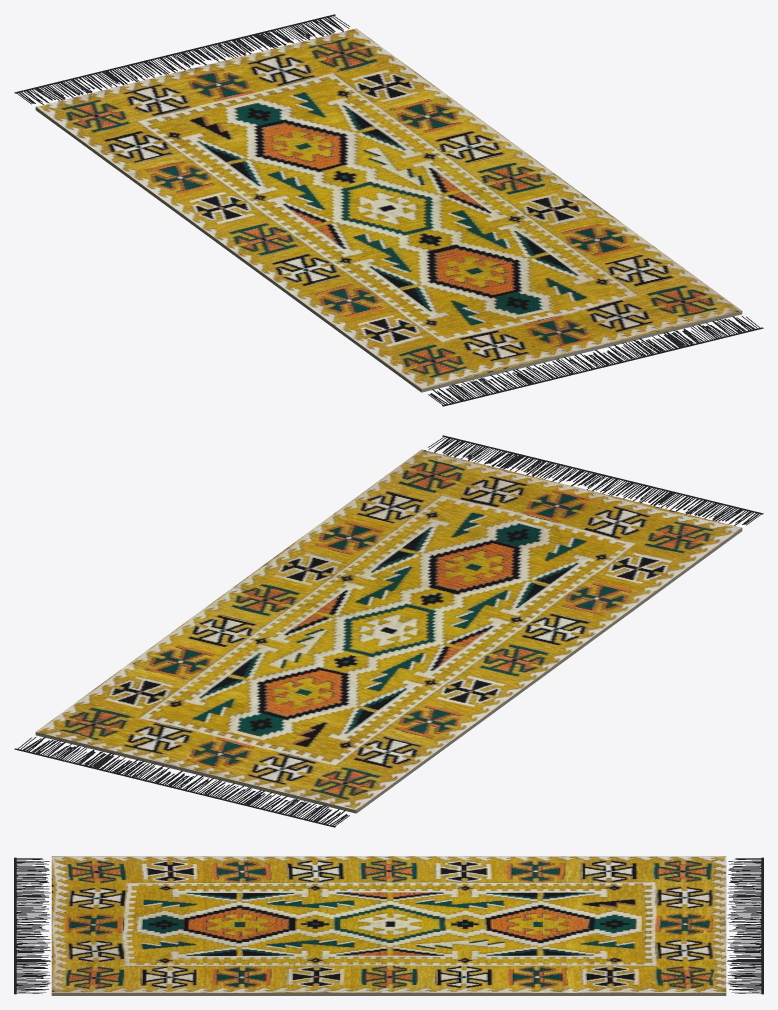
3 renders of one model, top to bottom at view 1: azimuth 30°, elevation 25°; view 2: azimuth 150°, elevation 25°; view 3: azimuth 270°, elevation 25°, orthographic. The views are drawn at different scales.
Parts seen in each view (by area): view 1: rug, fringeB, fringeA, side; view 2: rug, fringeA, fringeB, side; view 3: rug, fringeA, fringeB, side.
Boxes of the visible parts, left/top/right/bottom form: rug: left=36, top=28, right=741, bottom=388; fringeB: left=428, top=316, right=763, bottom=406; fringeA: left=14, top=14, right=349, bottom=104; side: left=35, top=107, right=742, bottom=392; rug: left=36, top=449, right=741, bottom=809; fringeA: left=14, top=737, right=349, bottom=827; fringeB: left=428, top=435, right=763, bottom=525; side: left=35, top=528, right=742, bottom=813; rug: left=51, top=856, right=726, bottom=992; fringeA: left=727, top=857, right=763, bottom=994; fringeB: left=14, top=857, right=50, bottom=994; side: left=51, top=993, right=726, bottom=995.
Size of what is drawn, in the model's own units: 0.6 by 0.00614 by 1.39.
Materials: 2 (2 with a texture image).
